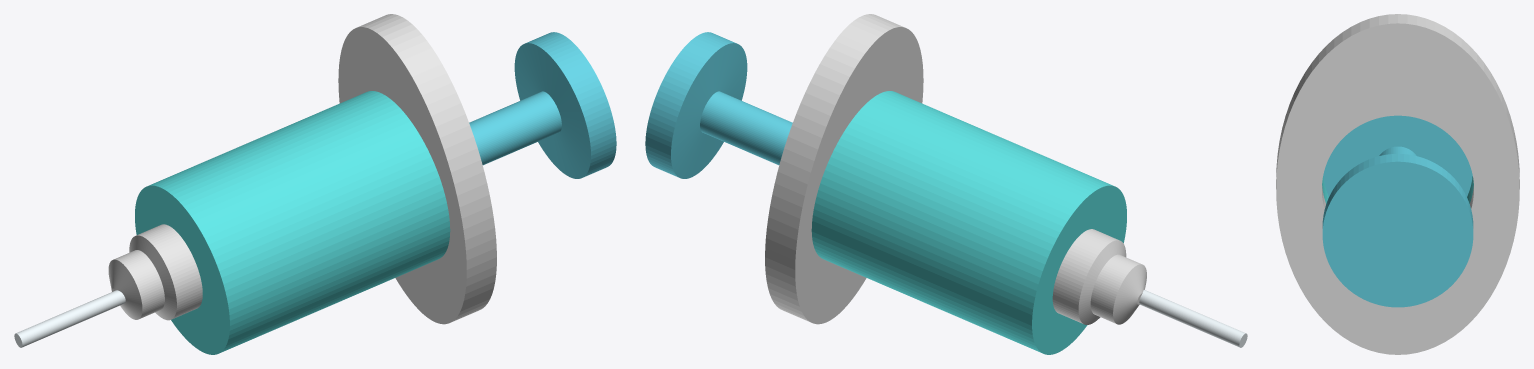
The model's file is Syringe.fbx.
The picture shows the model from 3 angles, left to right: view 1: azimuth 30°, elevation 25°; view 2: azimuth 150°, elevation 25°; view 3: azimuth 270°, elevation 25°; orthographic projection. The views are drawn at different scales.
Visible parts, largest first — view 1: Cylinder.002; view 2: Cylinder.002; view 3: Cylinder.002.
Part boxes in pixels (x1,y1,x2,y2): Cylinder.002: [14, 14, 616, 354]; Cylinder.002: [645, 14, 1247, 354]; Cylinder.002: [1276, 14, 1519, 354].
Size of the model in its own units: 725 by 366 by 259.
